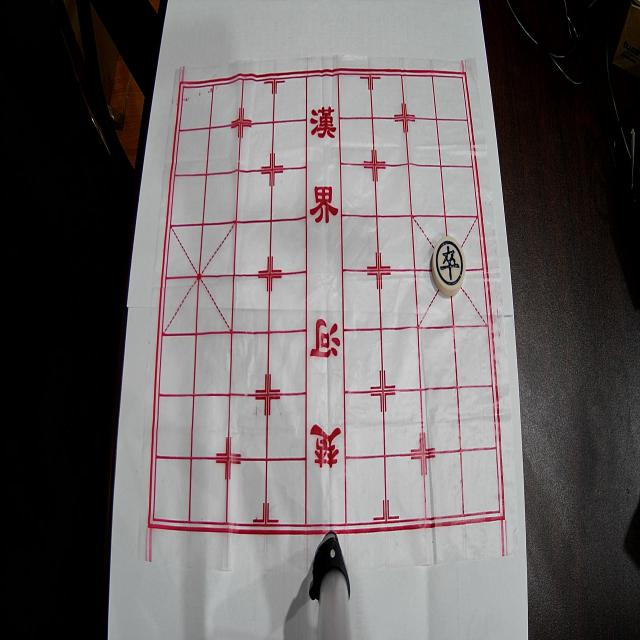black-soldier: (432, 236, 466, 296)
